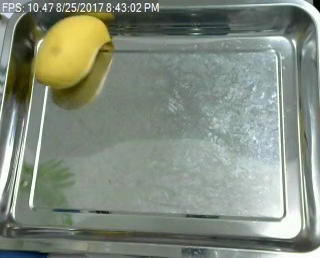Mango: (34, 12, 112, 91)
